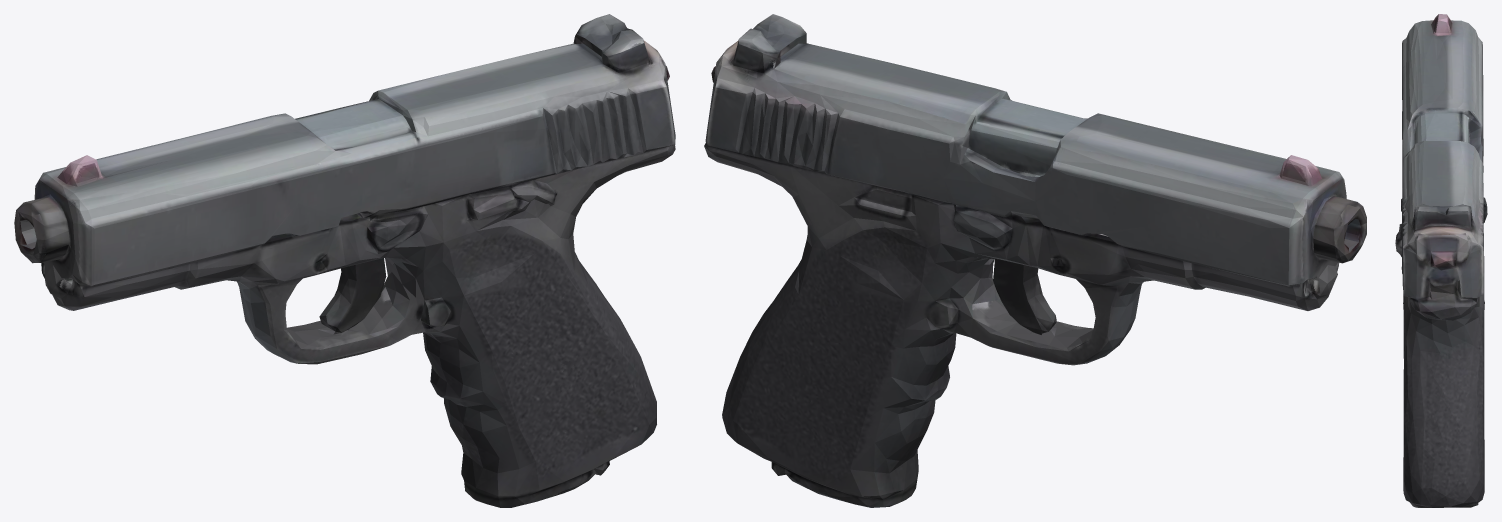
File: pistol.glb
The picture shows the model from 3 angles, left to right: view 1: azimuth 30°, elevation 25°; view 2: azimuth 150°, elevation 25°; view 3: azimuth 270°, elevation 25°; orthographic projection. The views are drawn at different scales.
Parts seen in each view (by area): view 1: pistol; view 2: pistol; view 3: pistol.
Boxes of the visible parts, left/top/right/bottom form: pistol: left=14, top=14, right=675, bottom=507; pistol: left=704, top=14, right=1366, bottom=507; pistol: left=1395, top=14, right=1487, bottom=507.
Size of the model in its own units: 0.46 by 0.3006 by 0.0777.
Materials: 1 (1 with a texture image).
